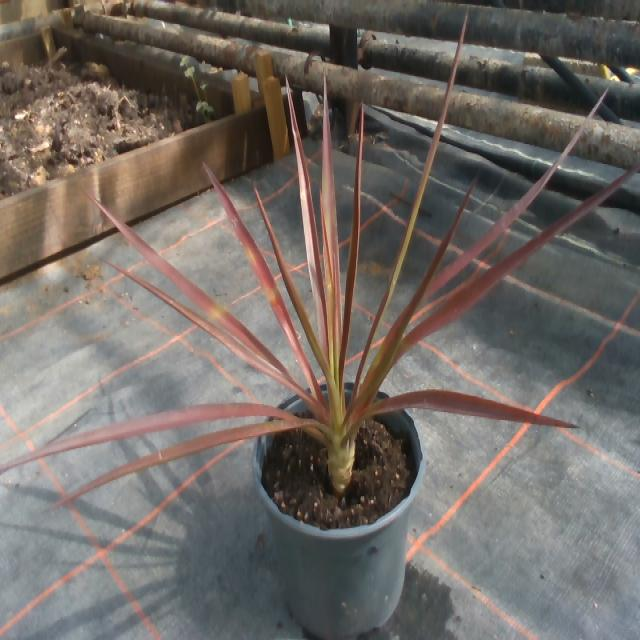Yucca-aloifolia: (87, 193, 327, 416), (384, 164, 639, 372), (89, 196, 292, 380), (365, 17, 467, 359), (430, 124, 585, 292), (54, 417, 311, 507), (205, 164, 310, 381), (365, 181, 474, 379), (0, 403, 284, 472), (256, 188, 330, 388), (287, 80, 327, 356), (364, 389, 576, 427), (338, 107, 363, 381), (322, 79, 341, 381)
